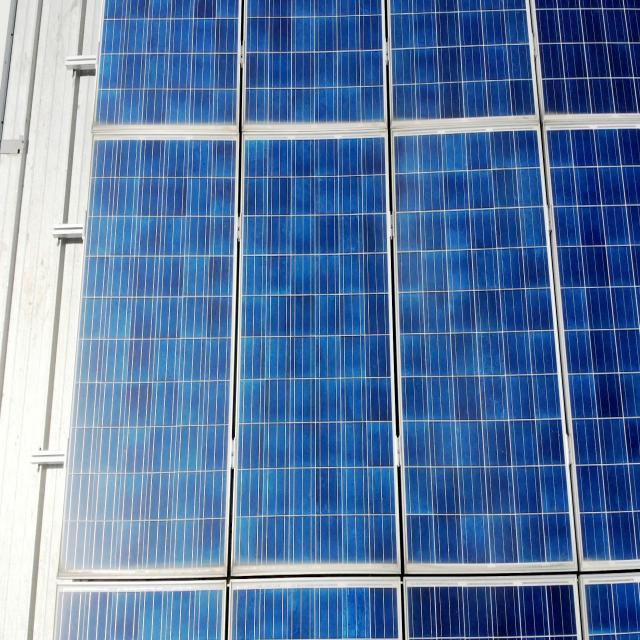no faulty: (390, 128, 580, 578), (58, 132, 238, 580), (240, 132, 403, 576), (90, 5, 640, 131)
